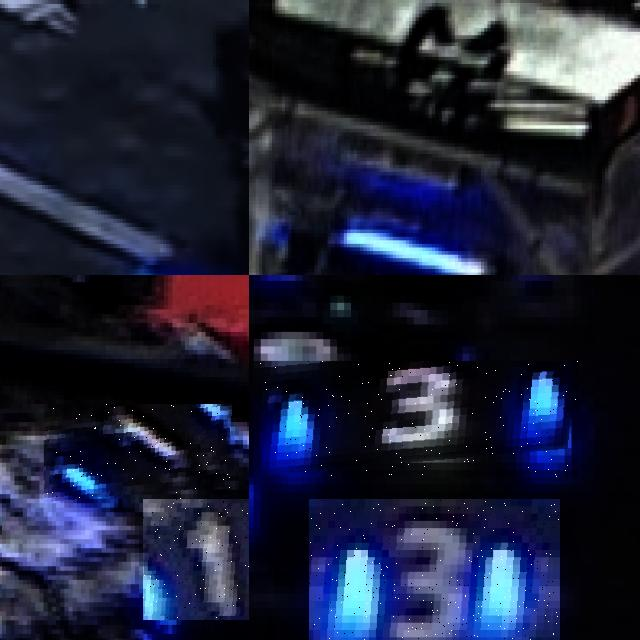B1: (44, 404, 234, 503), (143, 498, 249, 620)
B3: (260, 361, 580, 477), (309, 498, 559, 640)
